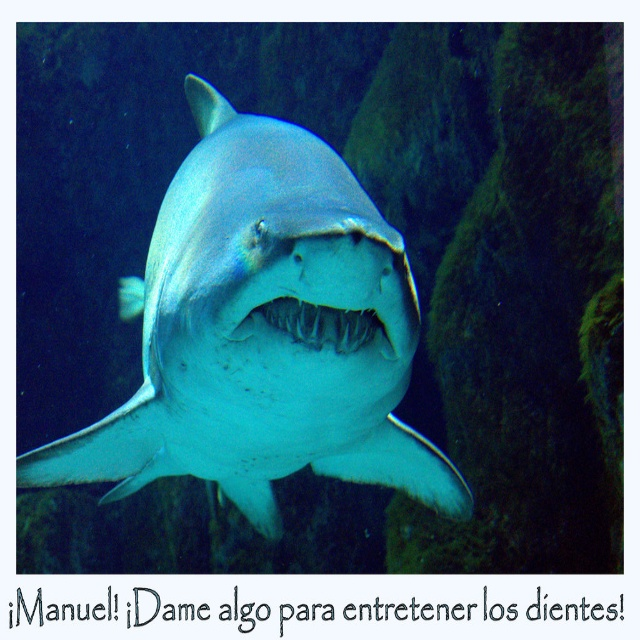Shark: (16, 74, 474, 547)
